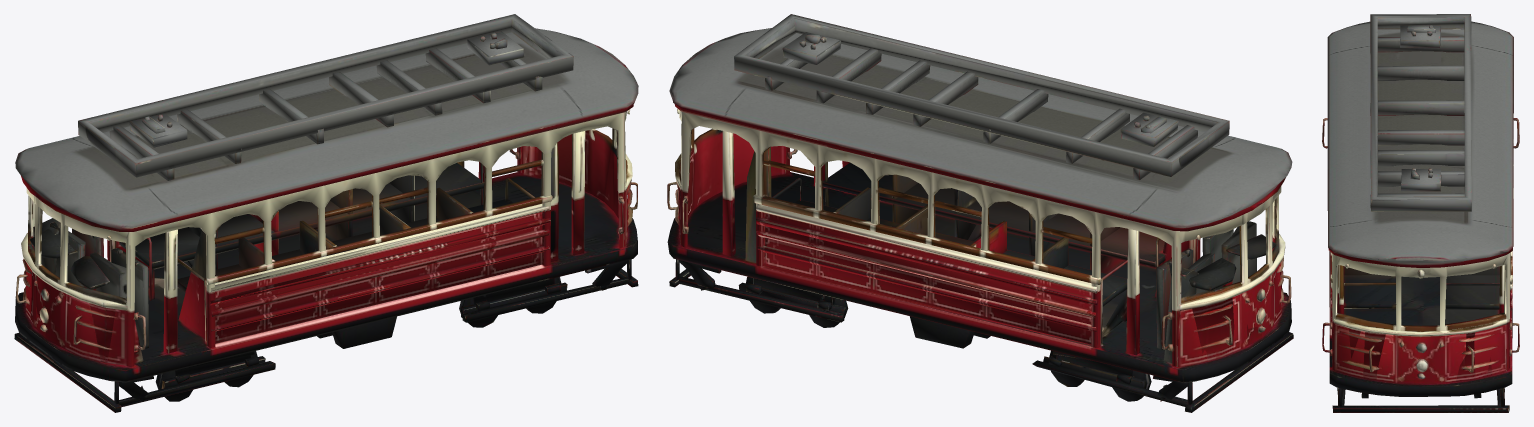
Rendered from tram.glb.
The picture shows the model from 3 angles, left to right: view 1: azimuth 30°, elevation 25°; view 2: azimuth 150°, elevation 25°; view 3: azimuth 270°, elevation 25°; orthographic projection. The views are drawn at different scales.
Bounding box in the file's own units: 1 × 0.4264 × 0.3459.
Materials: 1 (1 with a texture image).
